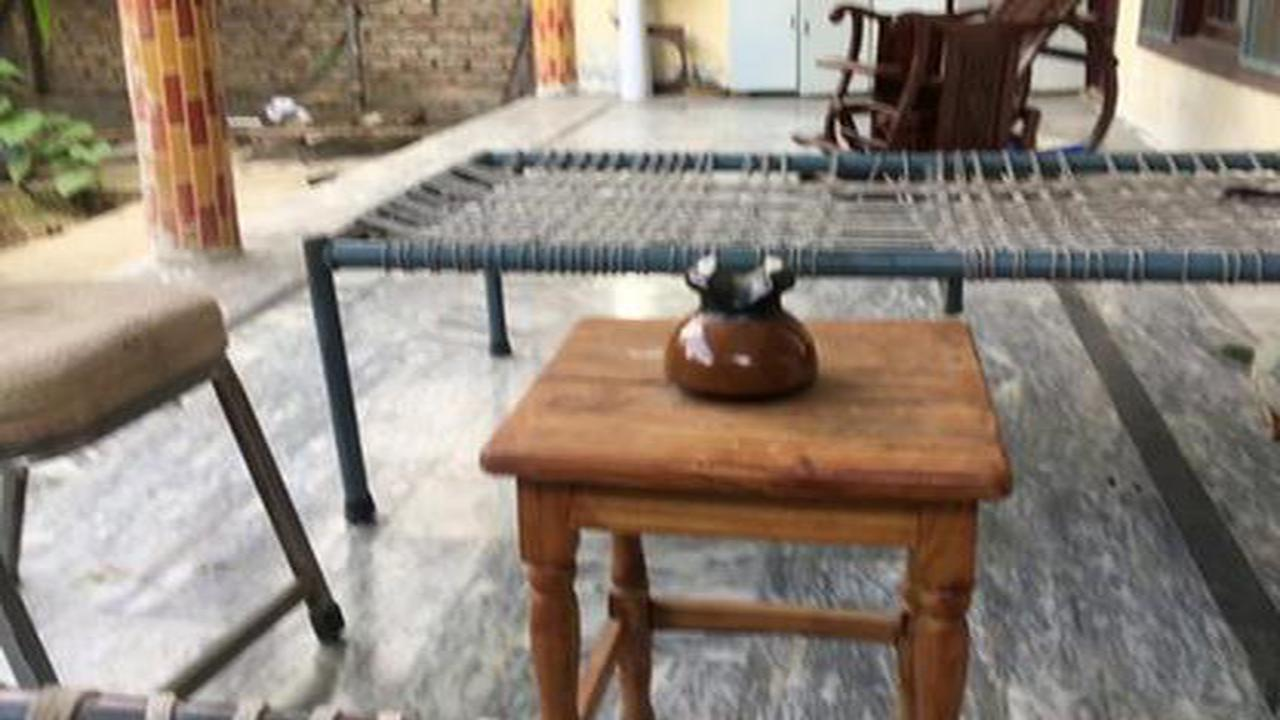insulator_pin: (644, 234, 831, 414)
